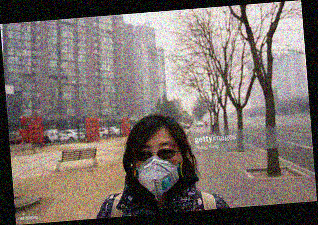with_mask: (133, 140, 184, 200)
